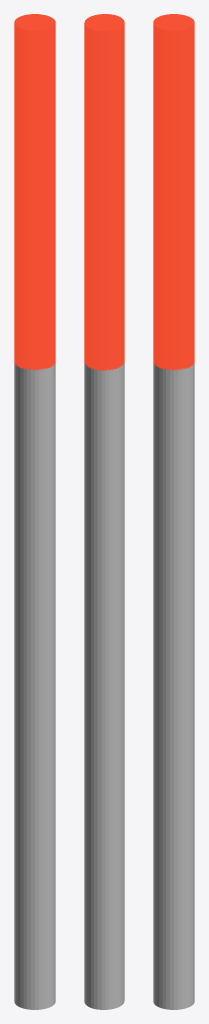
File: emitter.glb
3 renders of one model, left to right at view 1: azimuth 90°, elevation 25°; view 2: azimuth 150°, elevation 25°; view 3: azimuth 270°, elevation 25°, orthographic.
Visible parts, largest first — view 1: Pole, Emitter; view 2: Pole, Emitter; view 3: Pole, Emitter.
Part boxes in pixels (left/top/right/bottom): Pole: left=14, top=363, right=55, bottom=1009; Emitter: left=14, top=14, right=55, bottom=370; Pole: left=84, top=362, right=124, bottom=1009; Emitter: left=84, top=14, right=124, bottom=370; Pole: left=153, top=363, right=194, bottom=1009; Emitter: left=153, top=14, right=194, bottom=370.
Size of the model in its own units: 0.1745 by 4.75 by 0.1818.
